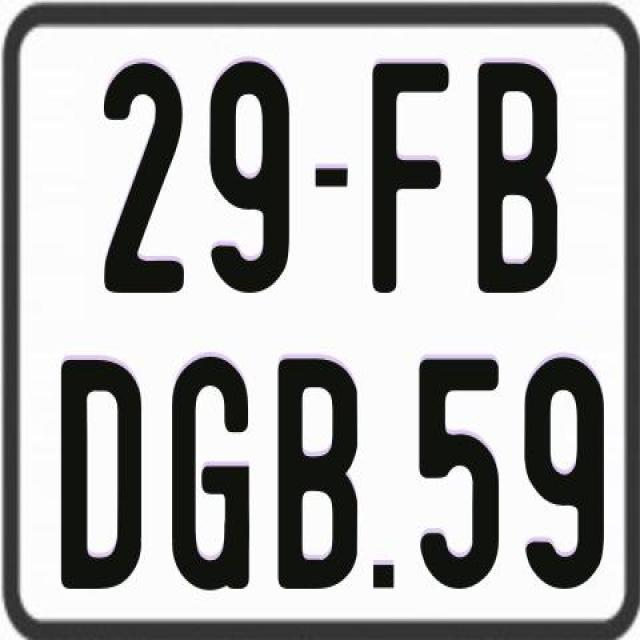2: (101, 61, 187, 300)
5: (414, 358, 500, 596)
9: (205, 56, 291, 293), (520, 352, 604, 590)
B: (274, 357, 362, 597), (477, 59, 556, 299)
D: (57, 356, 143, 588)
F: (368, 62, 450, 296)
G: (169, 356, 248, 590)
